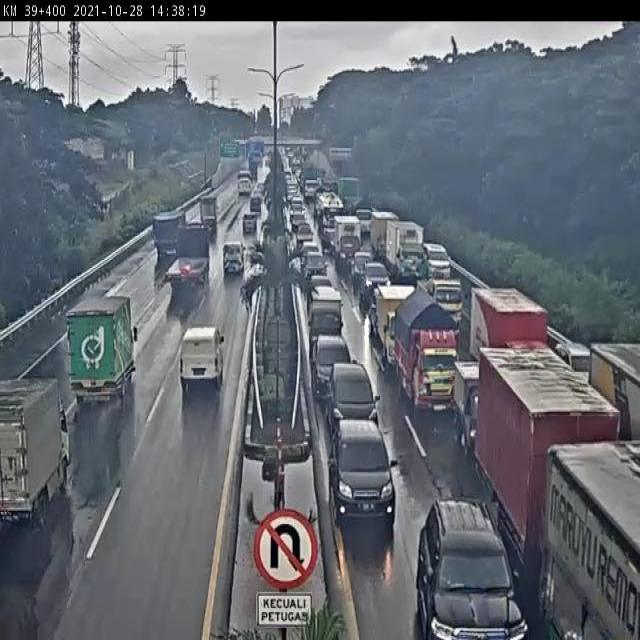big bus: (235, 165, 255, 203)
big truck: (478, 352, 617, 551), (539, 448, 640, 640), (471, 285, 564, 371), (589, 341, 640, 464), (167, 227, 214, 289), (146, 209, 188, 267)
car: (412, 486, 515, 640), (330, 415, 398, 512), (324, 364, 377, 432), (177, 325, 224, 388), (311, 338, 354, 398), (421, 240, 453, 281), (219, 236, 248, 280), (239, 209, 256, 235)
small truck: (0, 374, 74, 530), (67, 297, 135, 407), (394, 298, 459, 406), (455, 358, 500, 454), (379, 284, 422, 372), (386, 220, 431, 288), (365, 200, 399, 257), (422, 280, 464, 325), (194, 196, 221, 232)
